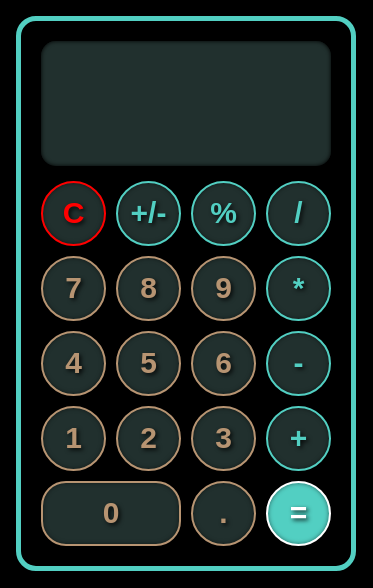
Test: Calculator › Calculate 2 + 2 -> 4
The width and height of the screenshot is (373, 588).
Click the button "2".
click(148, 438)  # box [116,406,181,470]
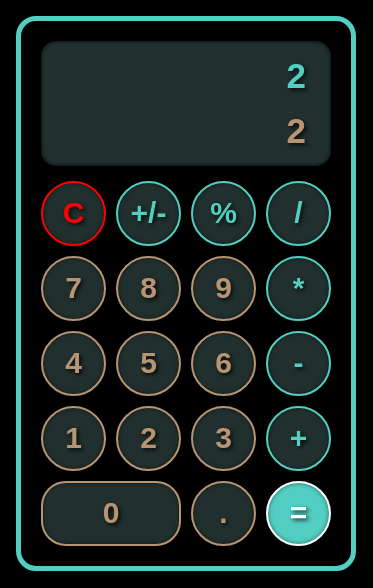
Click the button "+".
click(298, 438)  # box [266,406,331,470]
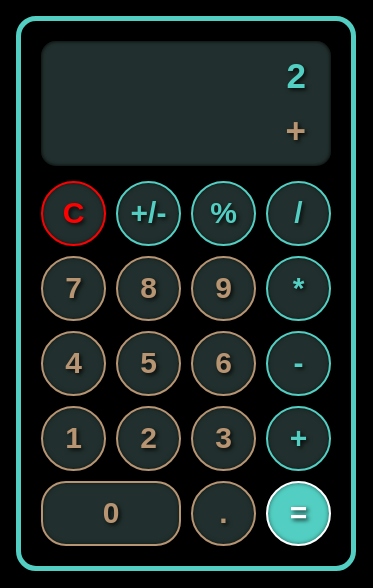
Click the button "2".
click(148, 438)  # box [116,406,181,470]
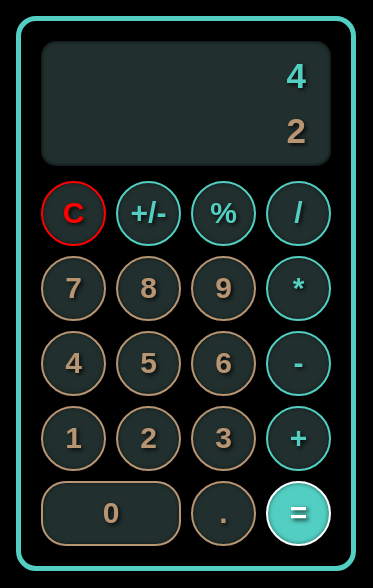
Expected: the text "4" is shown, [286,56,306,96]
